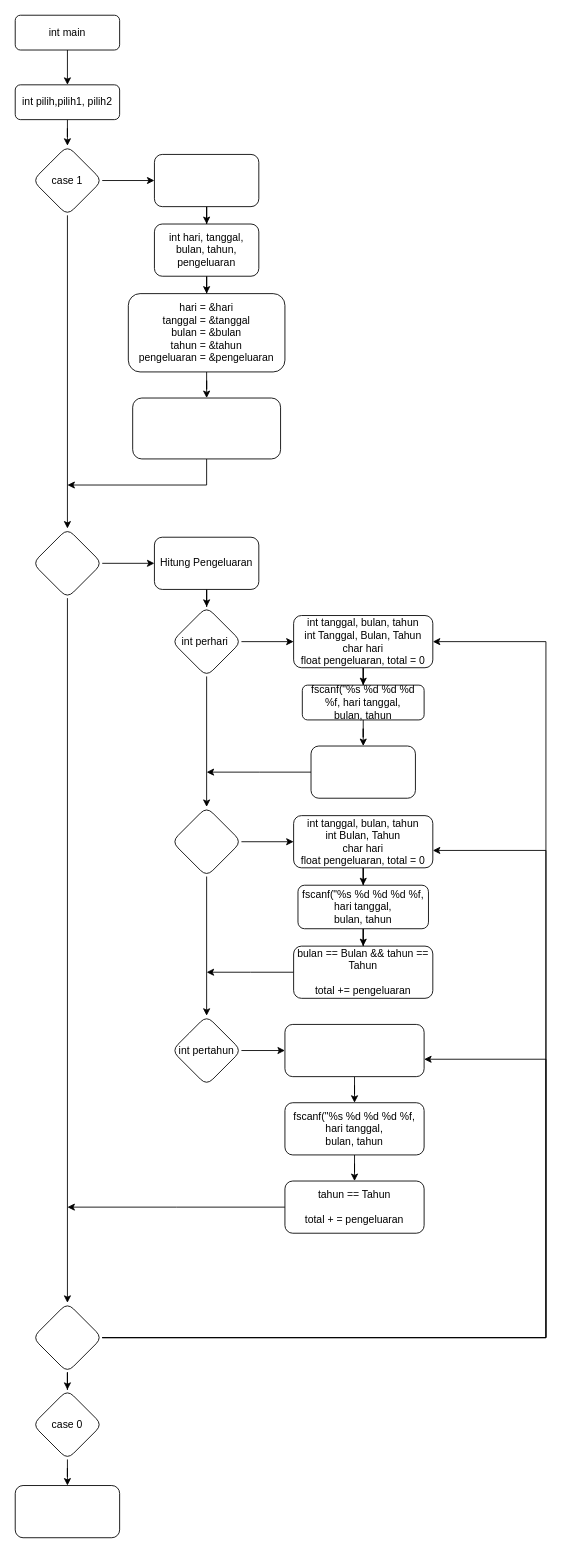
Some shapes in this 568 by 1553 pixel diagram are drawn without their labels. Each missing label, with the box of its shape:
"%s\n%d\n%d\n%d\n%f\n", hari, tanggal, bulan, tahun, pengeluaran: (132, 397, 281, 459)
case 2: (32, 528, 102, 598)
case 3: (32, 1302, 102, 1372)
end: (14, 1485, 120, 1538)
int perbulan: (171, 806, 241, 877)
int tanggal, bulan, tahun int Tahun char hari float pengeluaran, total = 0: (284, 1024, 424, 1077)
Masukkan data: (154, 154, 259, 207)
tanggal == Tanggal && bulan == Bulan total + = pengeluaran;: (310, 745, 415, 798)
